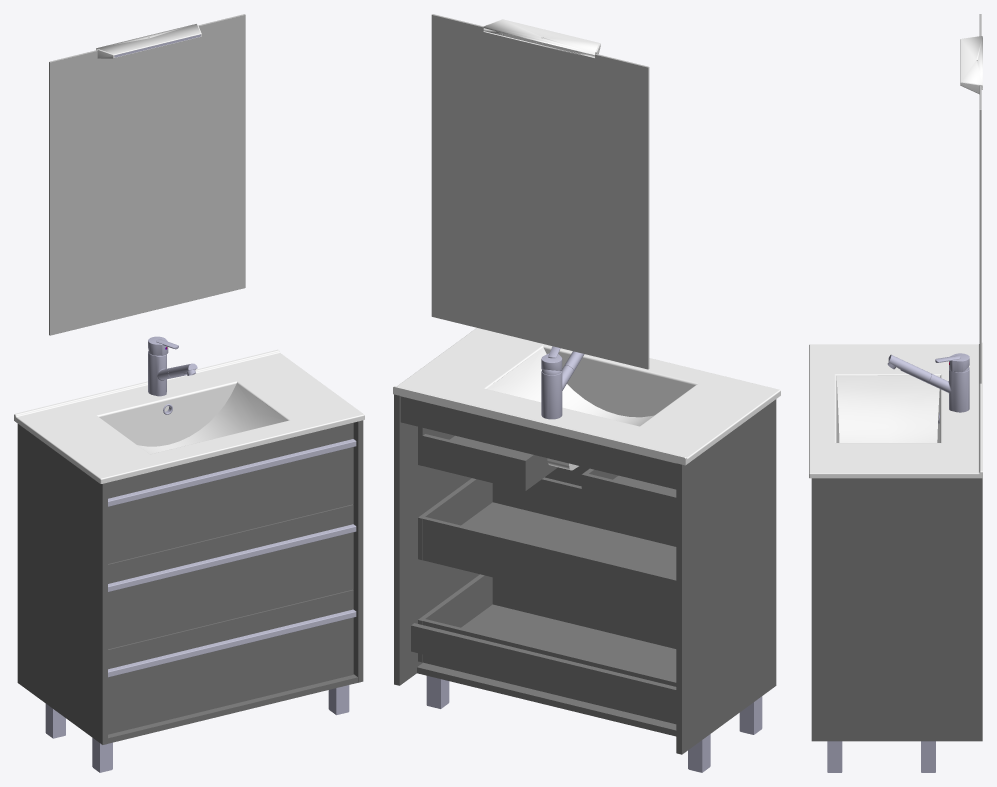
File: encimera.glb
The picture shows the model from 3 angles, left to right: view 1: azimuth 30°, elevation 25°; view 2: azimuth 150°, elevation 25°; view 3: azimuth 270°, elevation 25°; orthographic projection. The views are drawn at different scales.
Visible parts, largest first — view 1: mueble attila 800; view 2: mueble attila 800; view 3: mueble attila 800.
Part boxes in pixels (left/top/right/bottom): mueble attila 800: left=14, top=14, right=364, bottom=772; mueble attila 800: left=393, top=14, right=780, bottom=772; mueble attila 800: left=809, top=14, right=982, bottom=772.
Bounding box in the file's own units: 0.81 × 1.9 × 0.46.
